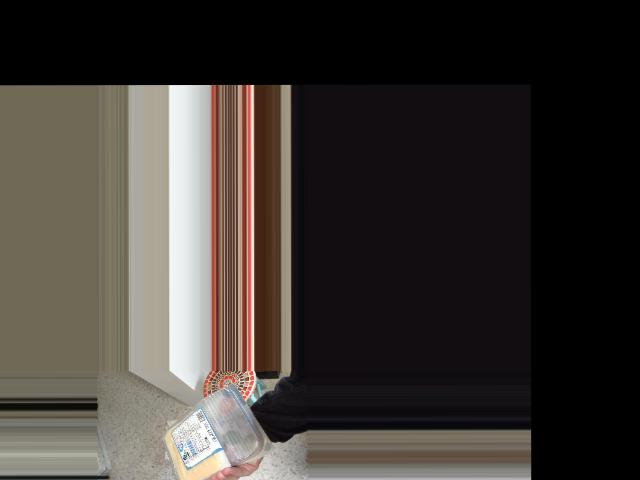cheese: (159, 387, 258, 474)
